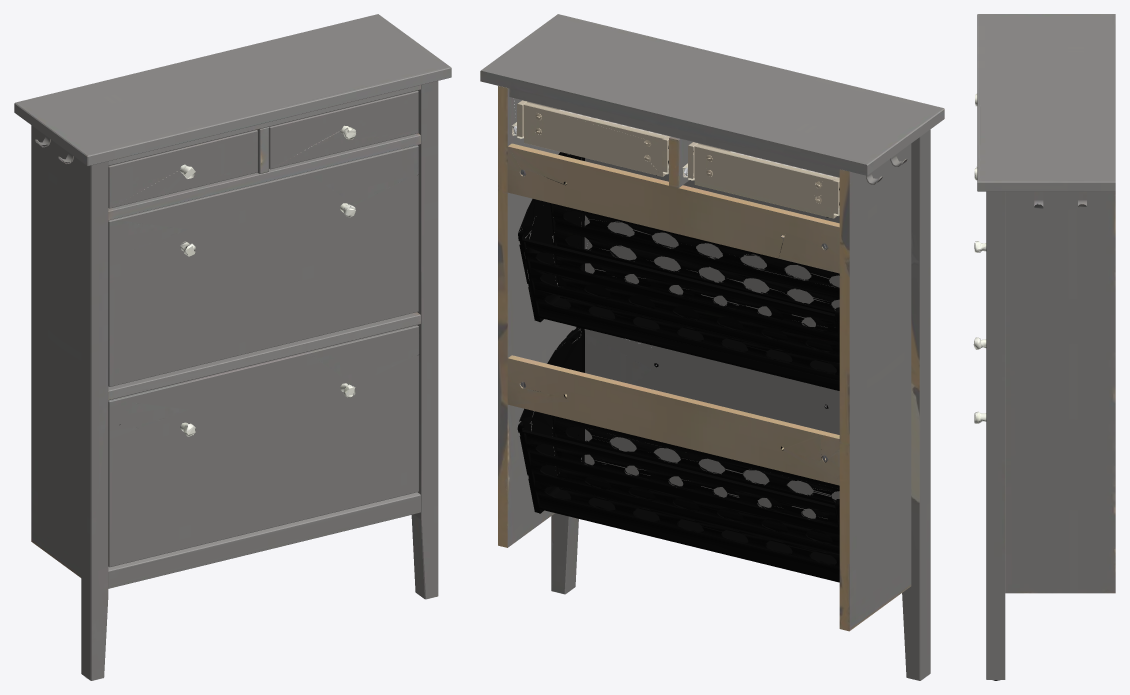
3 renders of one model, left to right at view 1: azimuth 30°, elevation 25°; view 2: azimuth 150°, elevation 25°; view 3: azimuth 270°, elevation 25°, orthographic. The views are drawn at different scales.
Parts seen in each view (by area): view 1: ASY_ART_40587697_S01_NV01; view 2: ASY_ART_40587697_S01_NV01; view 3: ASY_ART_40587697_S01_NV01.
Boxes of the visible parts, left/top/right/bottom form: ASY_ART_40587697_S01_NV01: left=14, top=14, right=451, bottom=680; ASY_ART_40587697_S01_NV01: left=480, top=14, right=944, bottom=680; ASY_ART_40587697_S01_NV01: left=973, top=14, right=1115, bottom=680.
Bounding box in the file's own units: 0.8749 × 1.22 × 0.3126.
Materials: 5 (5 with a texture image).
